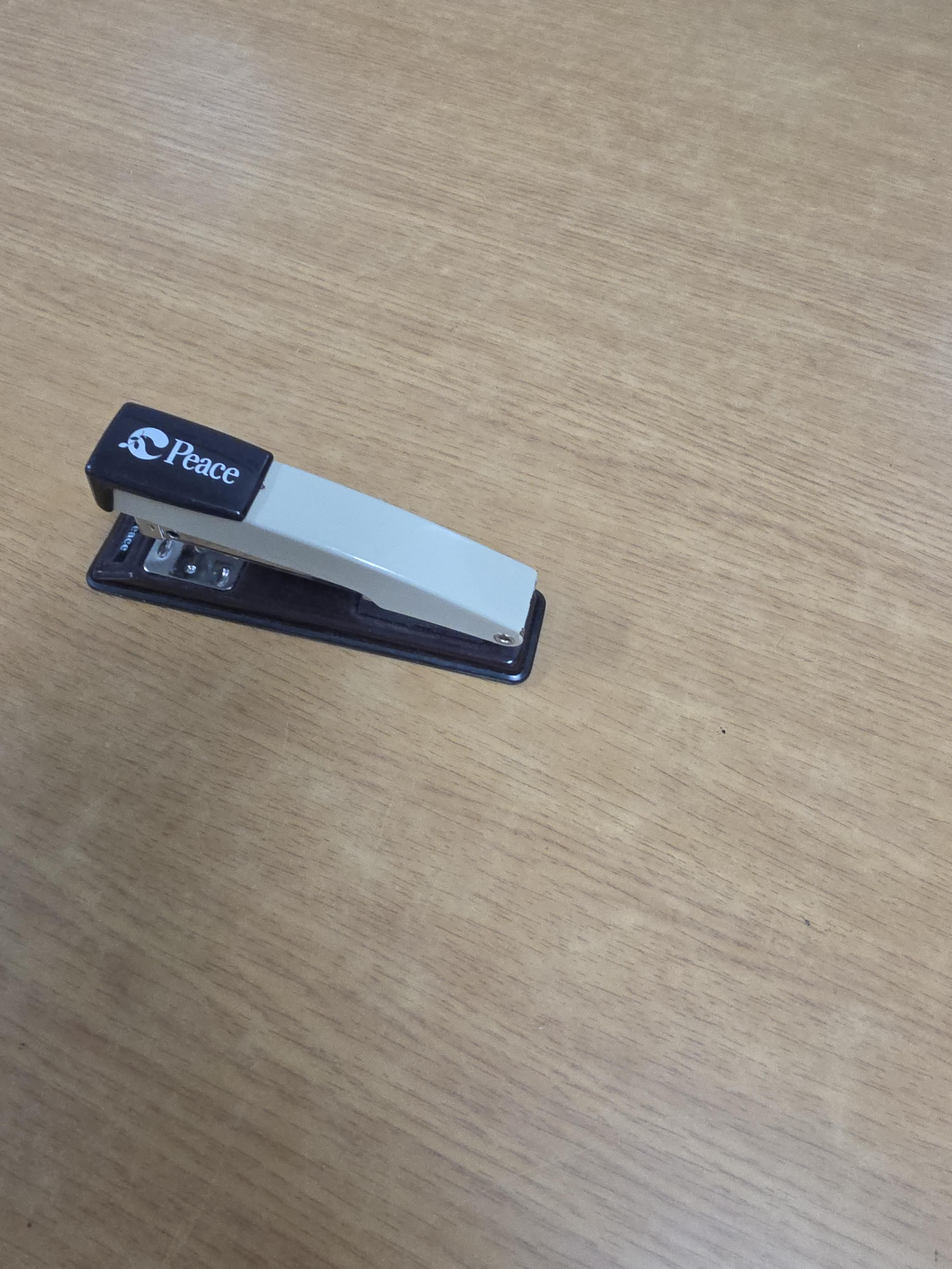stapler: (85, 400, 547, 686)
